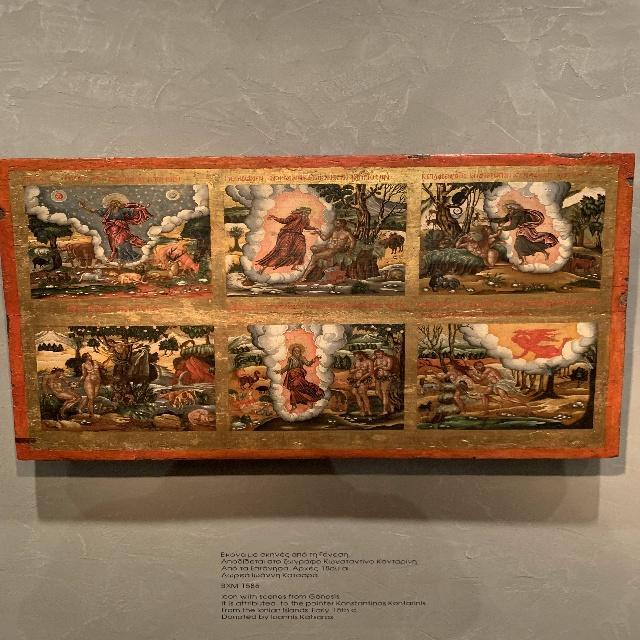angel: (501, 329, 574, 364)
cloud: (25, 186, 210, 264), (229, 184, 323, 286), (251, 327, 344, 424), (492, 184, 580, 270), (455, 324, 599, 371)
father: (82, 192, 153, 262), (496, 195, 561, 271), (257, 196, 321, 273), (280, 334, 320, 415)
wing: (528, 333, 560, 344), (527, 327, 560, 335)
